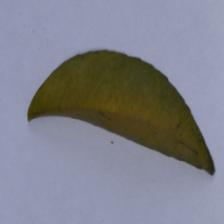greening: (26, 41, 171, 156)
